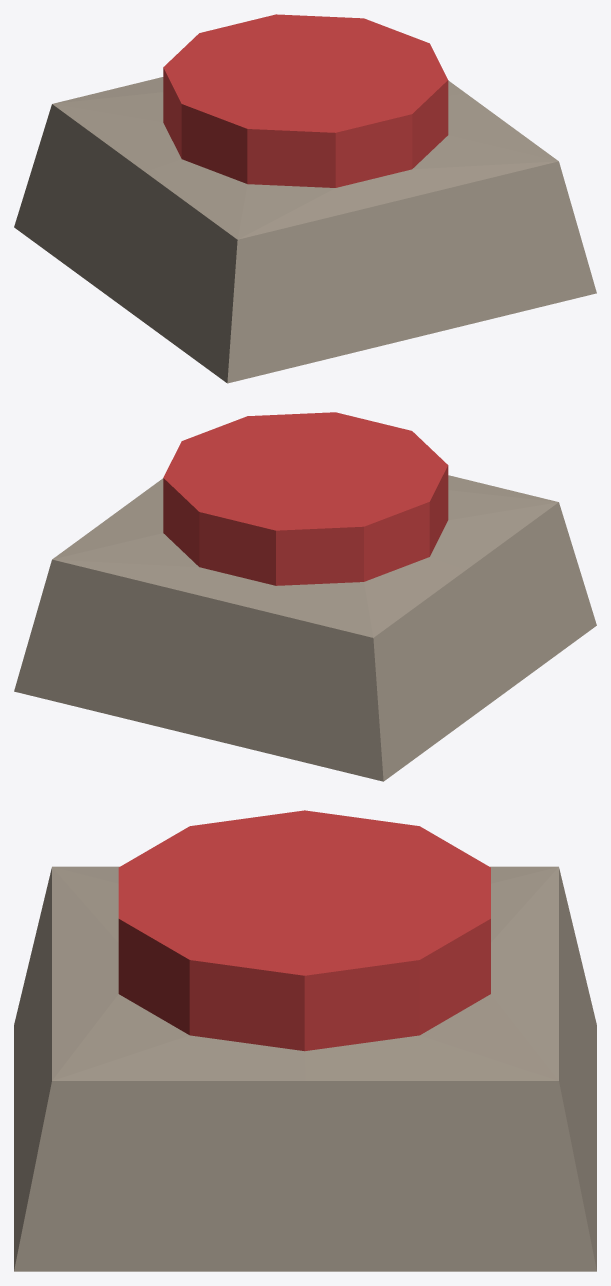
Rendered from Asset_Button_01.fbx.
3 views of the same model, one above another, from view 1: azimuth 30°, elevation 25°; view 2: azimuth 150°, elevation 25°; view 3: azimuth 270°, elevation 25° (orthographic). The views are drawn at different scales.
Parts seen in each view (by area): view 1: pCylinder5; view 2: pCylinder5; view 3: pCylinder5.
Boxes of the visible parts, box(x1,y1,x2,y2) form: pCylinder5: box(14, 14, 596, 383); pCylinder5: box(14, 412, 596, 781); pCylinder5: box(14, 810, 596, 1271).
Bounding box in the file's own units: 33.97 × 16.41 × 33.97.
